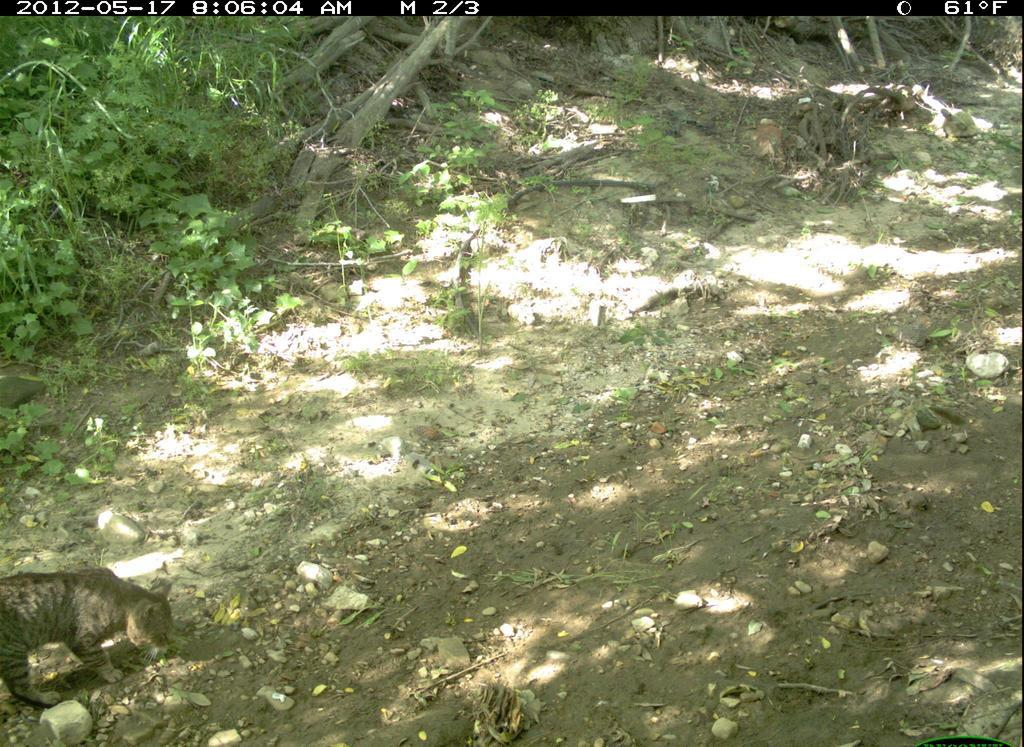cat: (2, 559, 213, 724)
